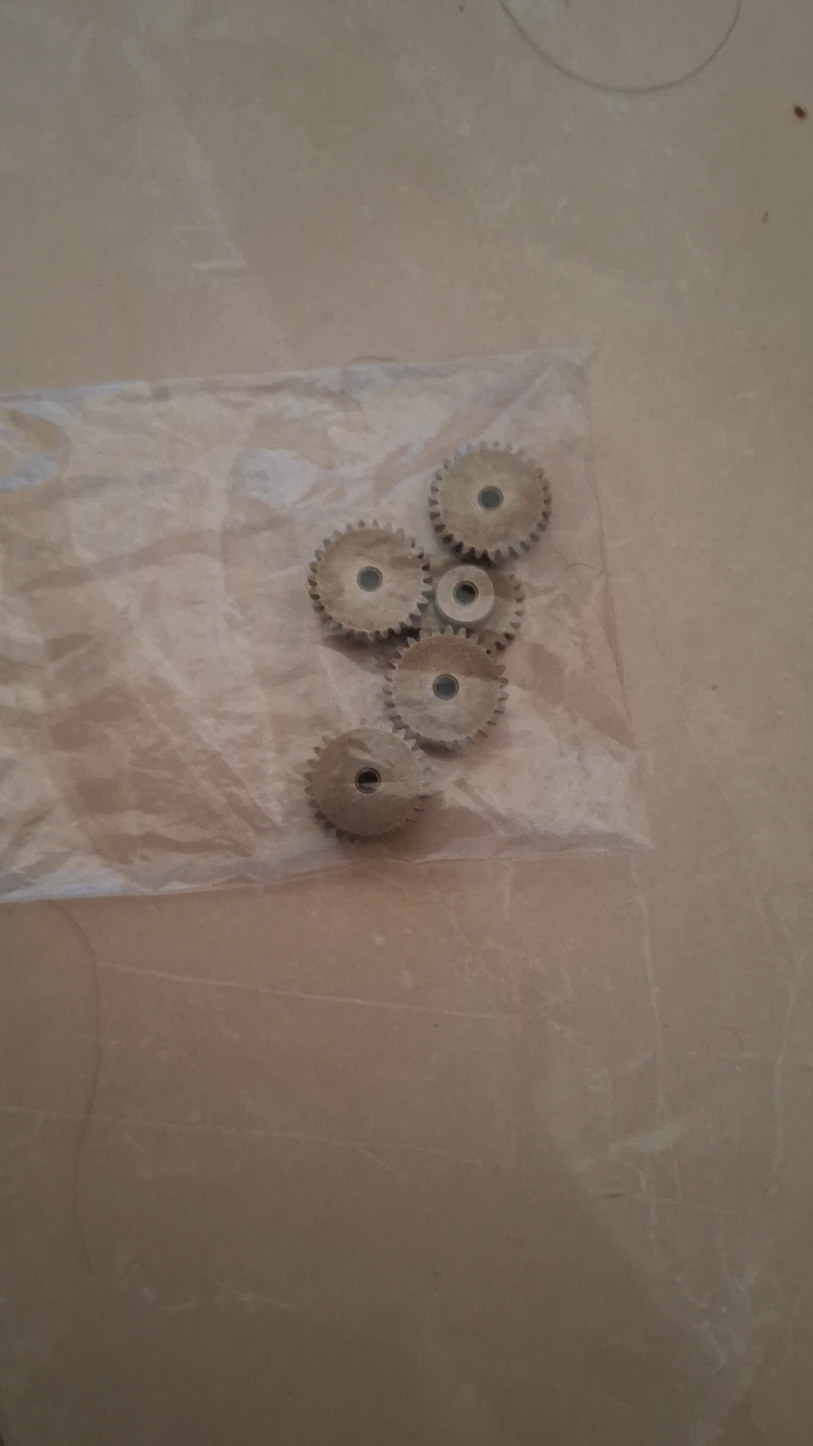spur gear: (309, 522, 431, 642), (384, 630, 506, 748), (430, 444, 550, 561), (306, 726, 425, 839), (420, 559, 524, 651)
